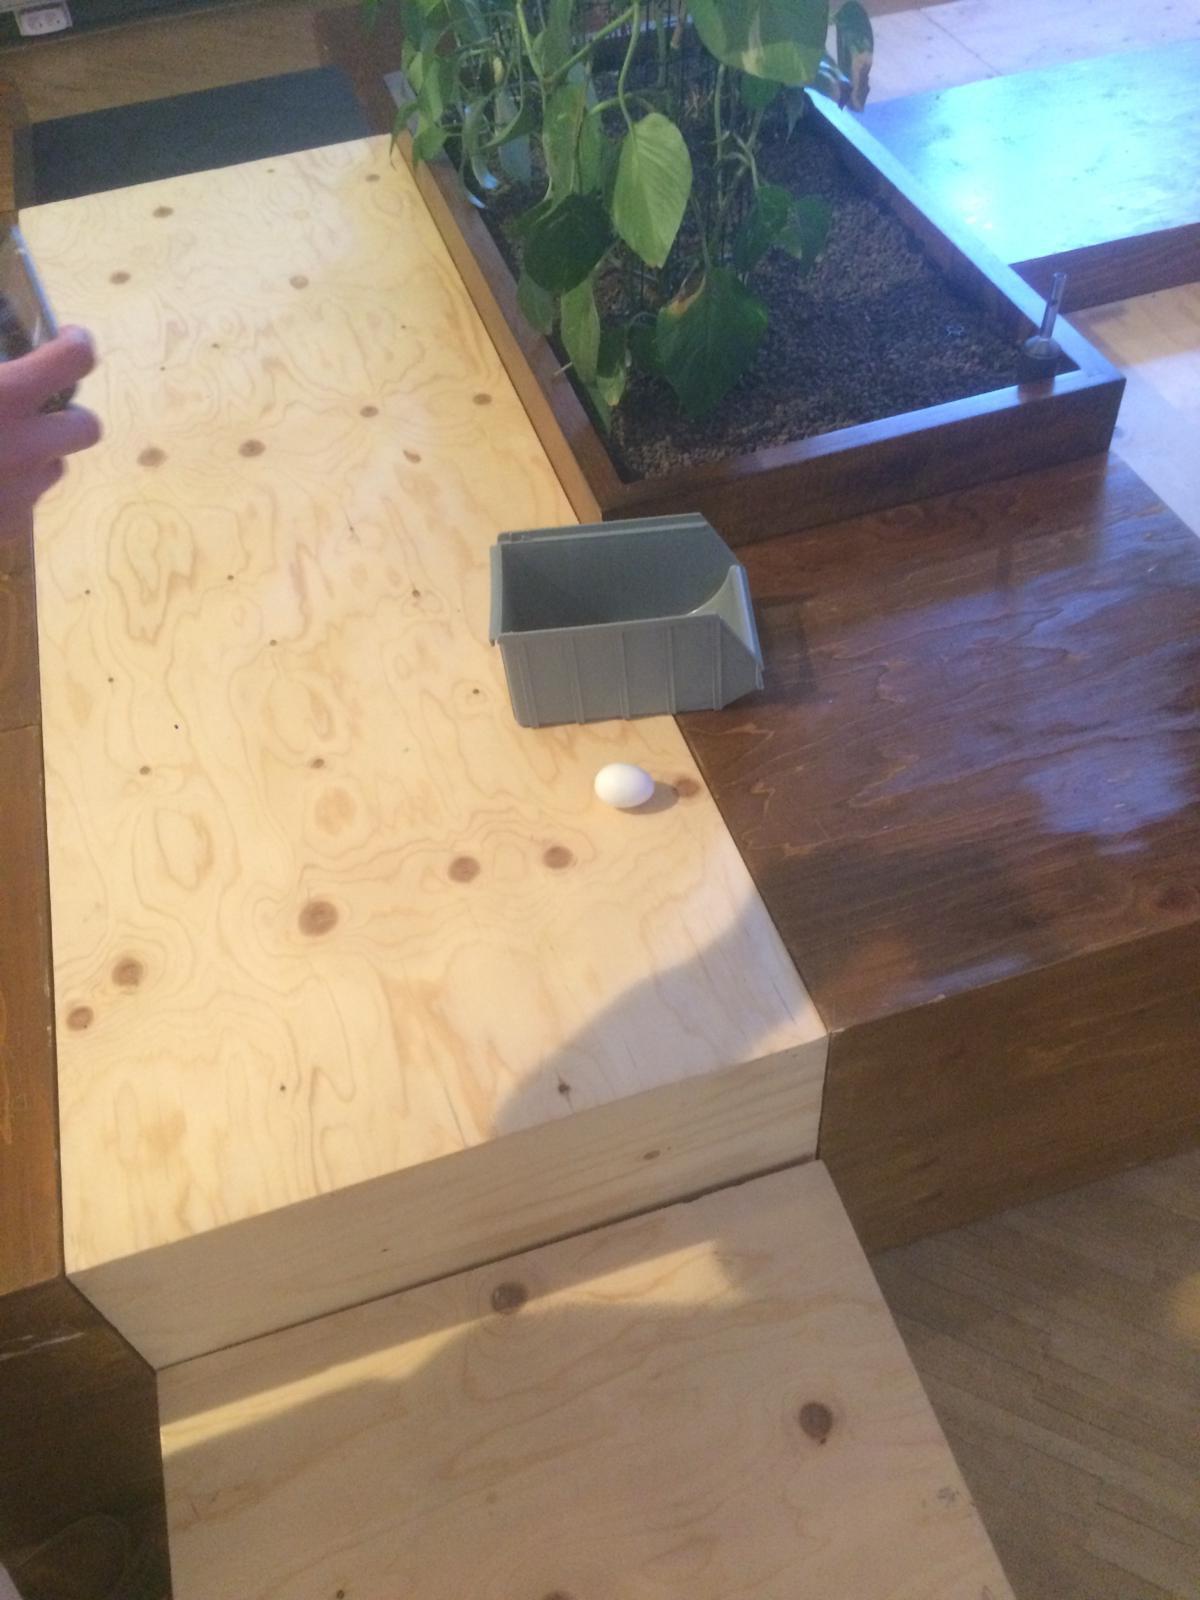egg: (589, 761, 666, 813)
tray_left: (500, 607, 774, 732)
